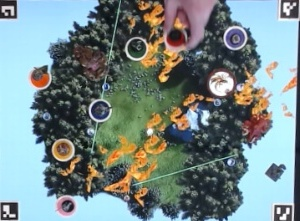blue: (87, 97, 111, 121)
green: (124, 35, 149, 62)
orange: (29, 65, 52, 90)
pink: (52, 192, 84, 216)
red: (163, 25, 190, 52)
violet: (223, 25, 248, 51)
yellow: (51, 135, 77, 163)
